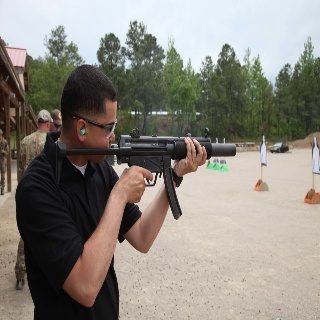rifle: (54, 126, 239, 220)
